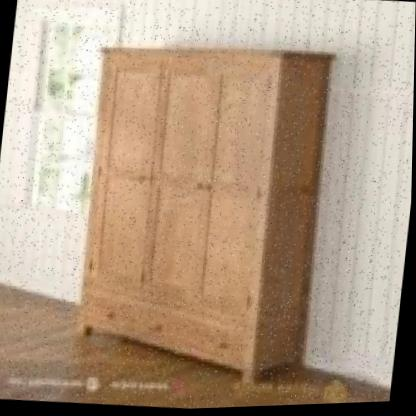Closet: (61, 32, 341, 401)
